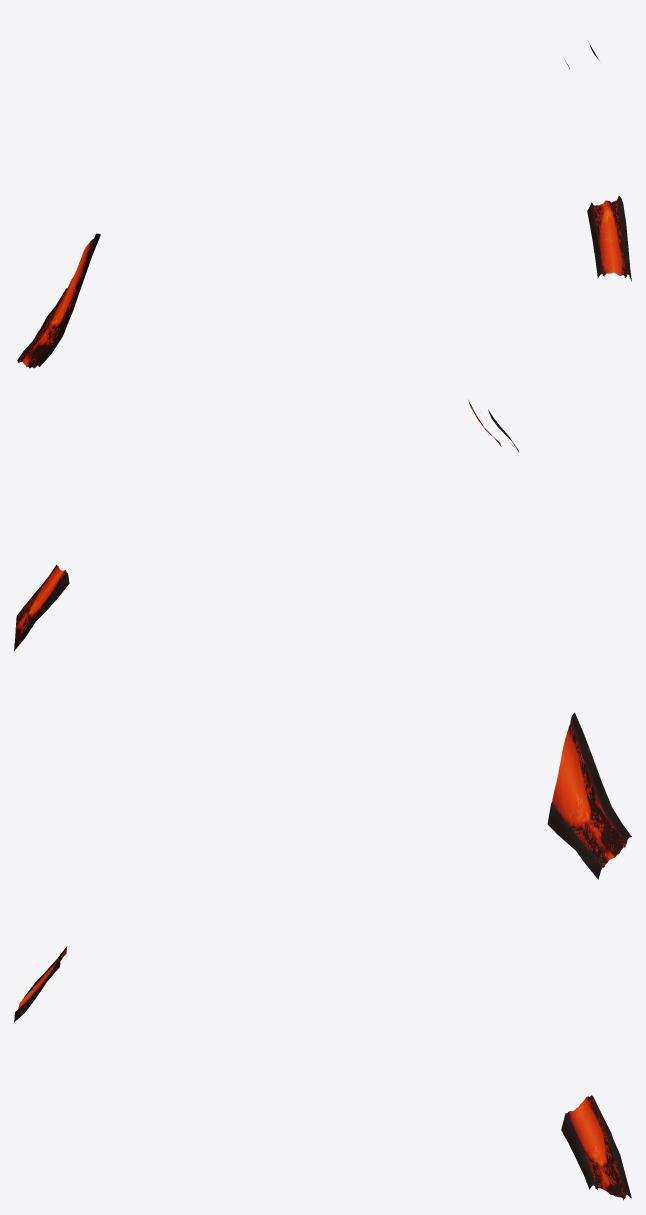
Rendered from lava_seg_6.glb.
The picture shows the model from 3 angles, top to bottom: view 1: azimuth 30°, elevation 25°; view 2: azimuth 150°, elevation 25°; view 3: azimuth 270°, elevation 25°; orthographic projection. The views are drawn at different scales.
Visible parts, largest first — view 1: seg; view 2: seg; view 3: seg.
Part boxes in pixels (x1,y1,x2,y2): seg: [17, 41, 631, 368]; seg: [14, 400, 631, 879]; seg: [14, 946, 631, 1200].
Size of the model in its own units: 80.51 by 31.85 by 66.78.
